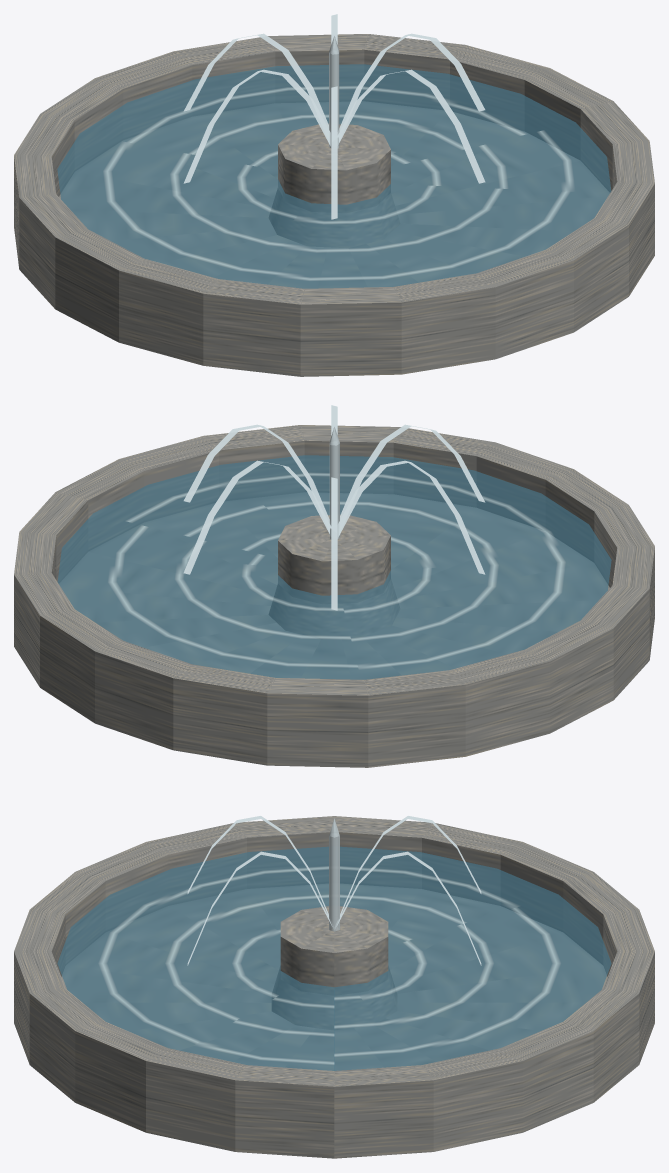
Rendered from brunnen_v4.glb.
3 views of the same model, one above another, from view 1: azimuth 30°, elevation 25°; view 2: azimuth 150°, elevation 25°; view 3: azimuth 270°, elevation 25° (orthographic).
Parts seen in each view (by area): view 1: V4; view 2: V4; view 3: V4.
Boxes of the visible parts, bbox=[...] form: V4: bbox=[14, 14, 654, 376]; V4: bbox=[14, 405, 654, 767]; V4: bbox=[14, 816, 654, 1158].
Bounding box in the file's own units: 3.4 × 1.2 × 3.4.
Materials: 2 (2 with a texture image).
